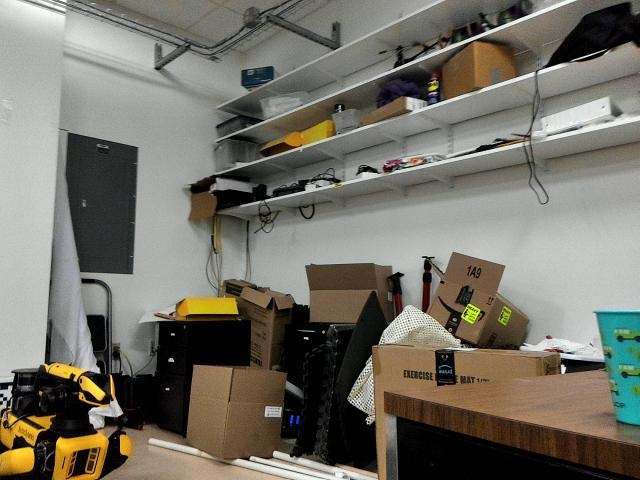coffee_cup: (594, 309, 640, 425)
